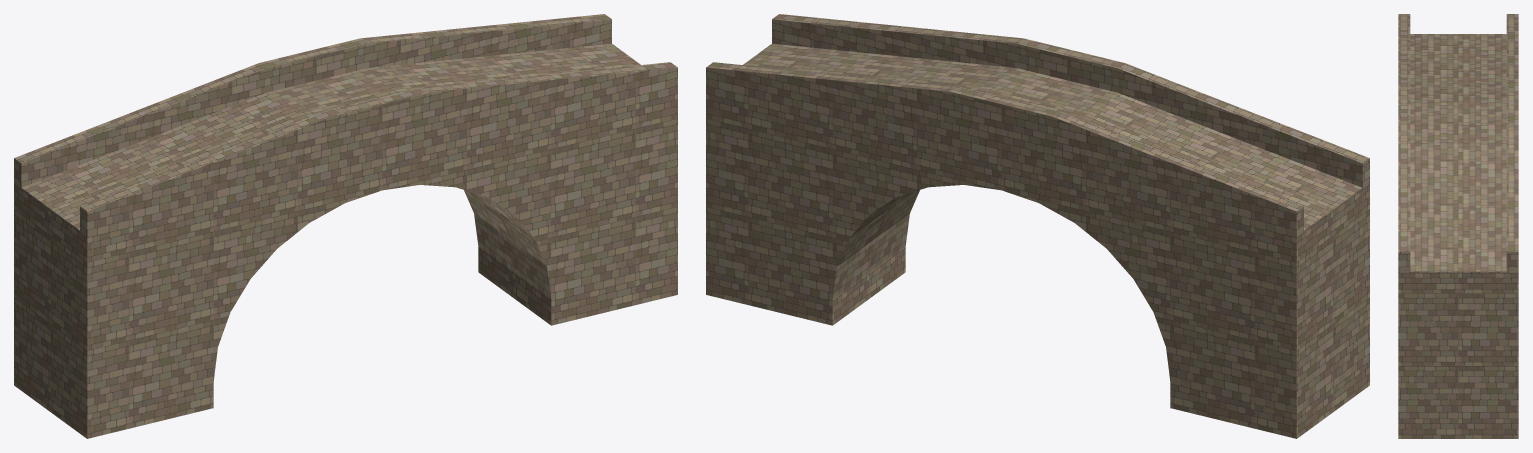
File: bridge_stone_arch.glb
3 views of the same model, side by side, from view 1: azimuth 30°, elevation 25°; view 2: azimuth 150°, elevation 25°; view 3: azimuth 270°, elevation 25° (orthographic). The views are drawn at different scales.
Visible parts, largest first — view 1: Bridge_Stone_Arch; view 2: Bridge_Stone_Arch; view 3: Bridge_Stone_Arch.
Part boxes in pixels (x1=…): Bridge_Stone_Arch: x1=14, y1=14, x2=677, y2=438; Bridge_Stone_Arch: x1=706, y1=14, x2=1369, y2=438; Bridge_Stone_Arch: x1=1398, y1=14, x2=1518, y2=438.
Size of the model in its own units: 14 by 5.95 by 3.
1 material, 1 textured.
